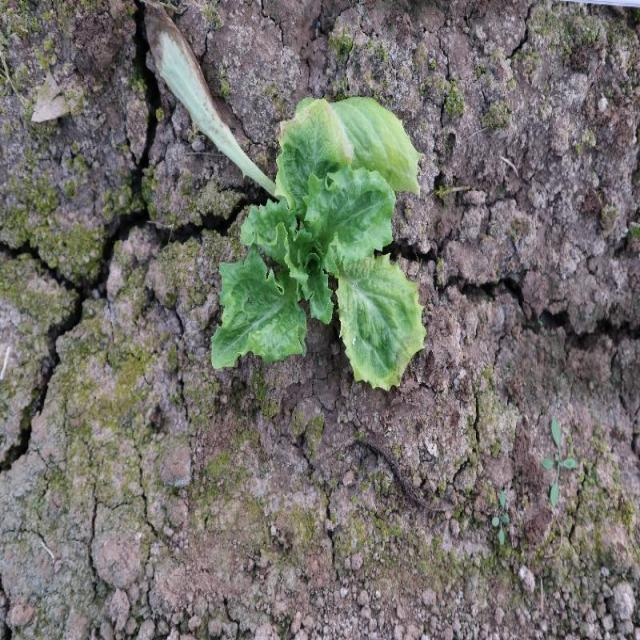crop: (211, 116, 425, 395)
